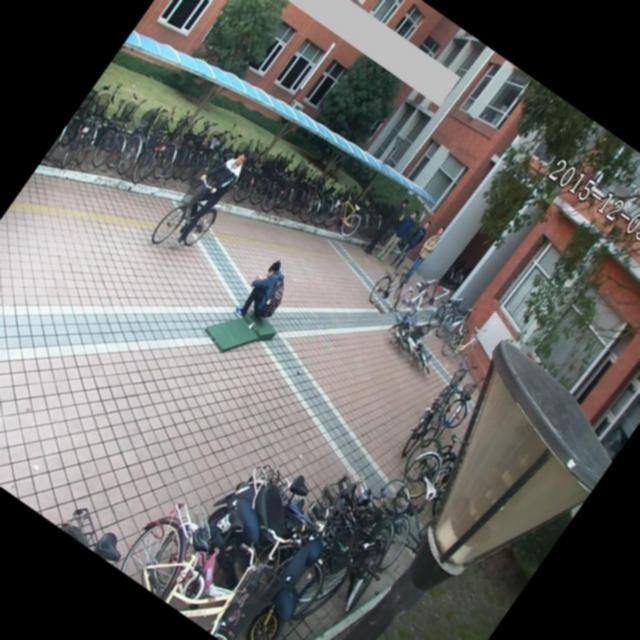person: (163, 138, 253, 248), (226, 248, 305, 338), (393, 220, 451, 293), (361, 190, 414, 257), (372, 202, 424, 267), (385, 212, 437, 276)
